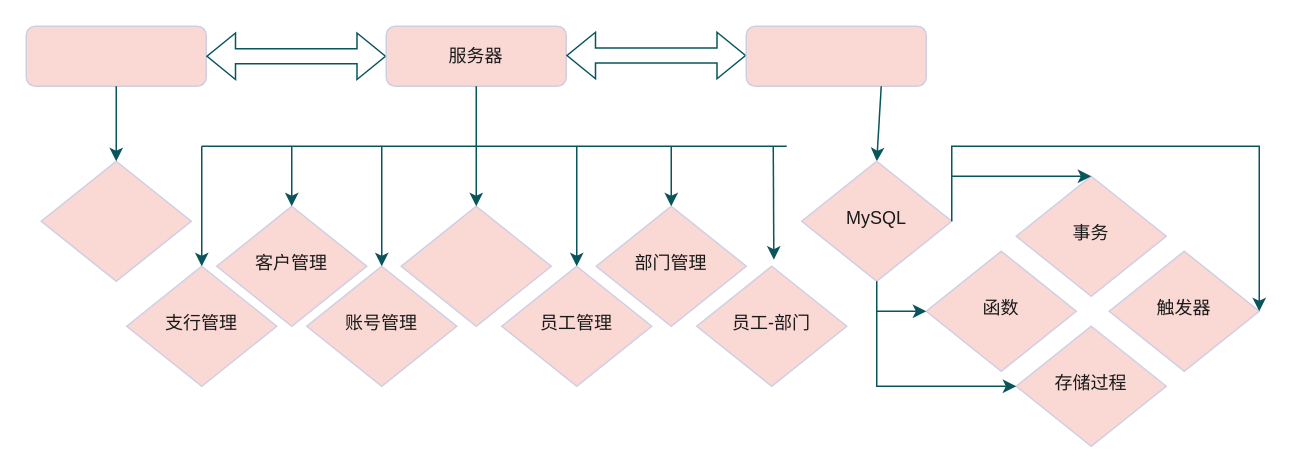
The diagram is 1298 pixels wide and 473 high, and some of its shapes have lost their labels. Here are the shapes that lost their labels. From the top down, the box of each, then its label:
(25, 25, 206, 86): web前端
(745, 25, 926, 86): DBMS
(40, 160, 191, 281): flask框架
(400, 205, 551, 326): 贷款管理
